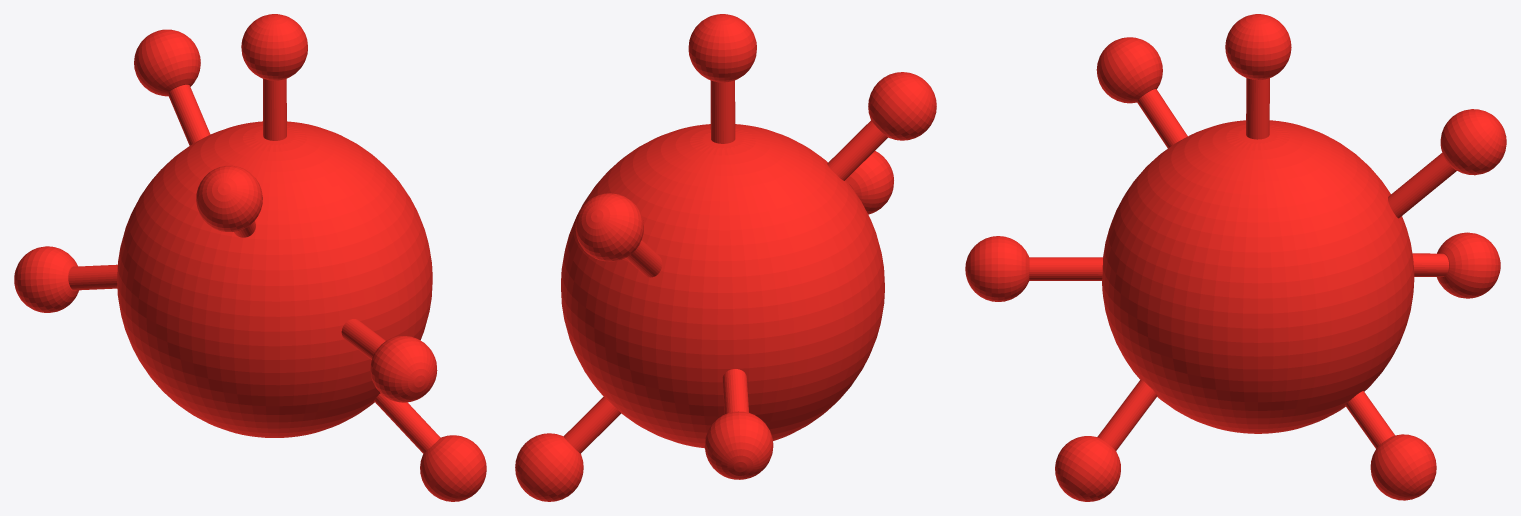
Rendered from Power uirusu.fbx.
3 views of the same model, side by side, from view 1: azimuth 30°, elevation 25°; view 2: azimuth 150°, elevation 25°; view 3: azimuth 270°, elevation 25° (orthographic). The views are drawn at different scales.
Parts seen in each view (by area): view 1: 球, 円柱.004, 円柱.001, 円柱, 円柱.003, 円柱.006, 円柱.002; view 2: 球, 円柱.001, 円柱.002, 円柱.005, 円柱.006, 円柱, 円柱.003; view 3: 球, 円柱, 円柱.003, 円柱.004, 円柱.001, 円柱.002, 円柱.005, 円柱.006.
Boxes of the visible parts, box(x1,y1,x2,y2) form: 球: box(117, 121, 432, 437); 円柱.004: box(374, 393, 486, 501); 円柱.001: box(241, 14, 307, 140); 円柱: box(134, 29, 210, 145); 円柱.003: box(341, 319, 437, 402); 円柱.006: box(14, 246, 117, 312); 円柱.002: box(196, 165, 262, 237); 球: box(561, 124, 884, 448); 円柱.001: box(688, 14, 756, 143); 円柱.002: box(827, 72, 936, 180); 円柱.005: box(515, 396, 621, 501); 円柱.006: box(704, 369, 773, 479); 円柱: box(575, 193, 662, 277); 円柱.003: box(846, 151, 893, 214); 球: box(1102, 120, 1414, 433); 円柱: box(1388, 109, 1506, 218); 円柱.003: box(965, 236, 1103, 301); 円柱.004: box(1055, 379, 1157, 501); 円柱.001: box(1225, 14, 1291, 139); 円柱.002: box(1096, 37, 1187, 148); 円柱.005: box(1345, 391, 1436, 500); 円柱.006: box(1412, 232, 1500, 298).
Bounding box in the file's own units: 1269 × 1863 × 2092.
